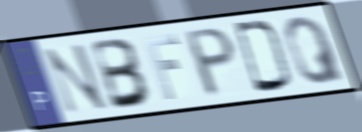B: (88, 36, 153, 112)
D: (230, 19, 295, 95)
F: (141, 33, 182, 103)
N: (41, 40, 111, 117)
P: (183, 24, 239, 101)
Q: (282, 14, 348, 87)
